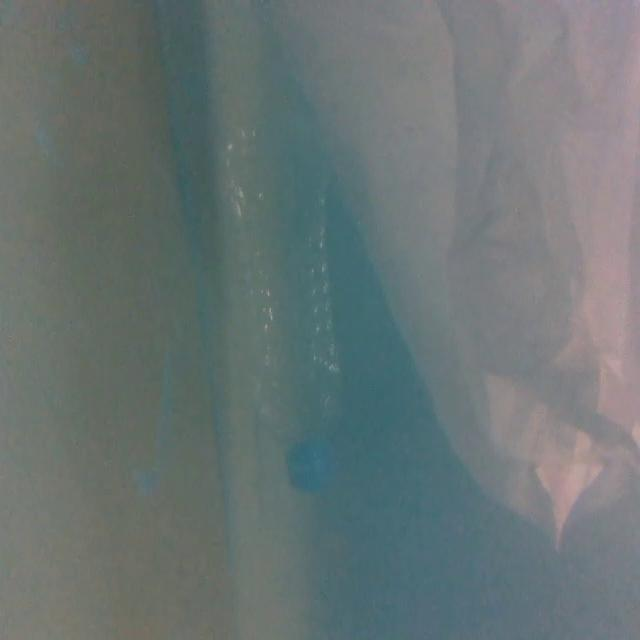plastic bags: (288, 0, 639, 538)
plastic bottle: (226, 119, 356, 508)
